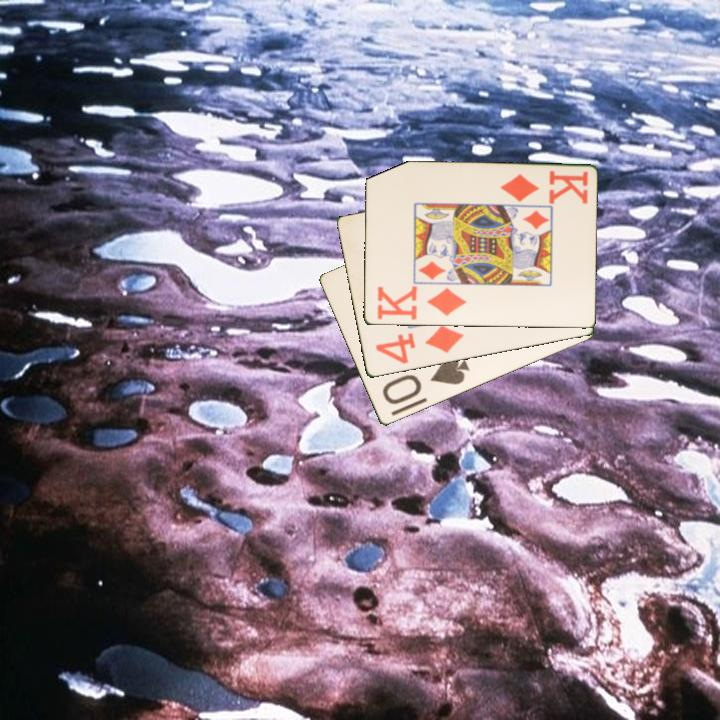10s: (379, 353, 472, 408)
4d: (371, 322, 466, 367)
Kd: (373, 283, 469, 323), (496, 167, 590, 206)
